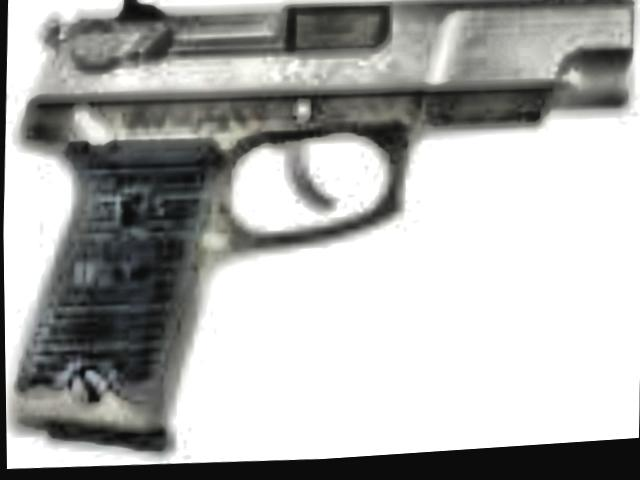pistol: (13, 0, 637, 457)
